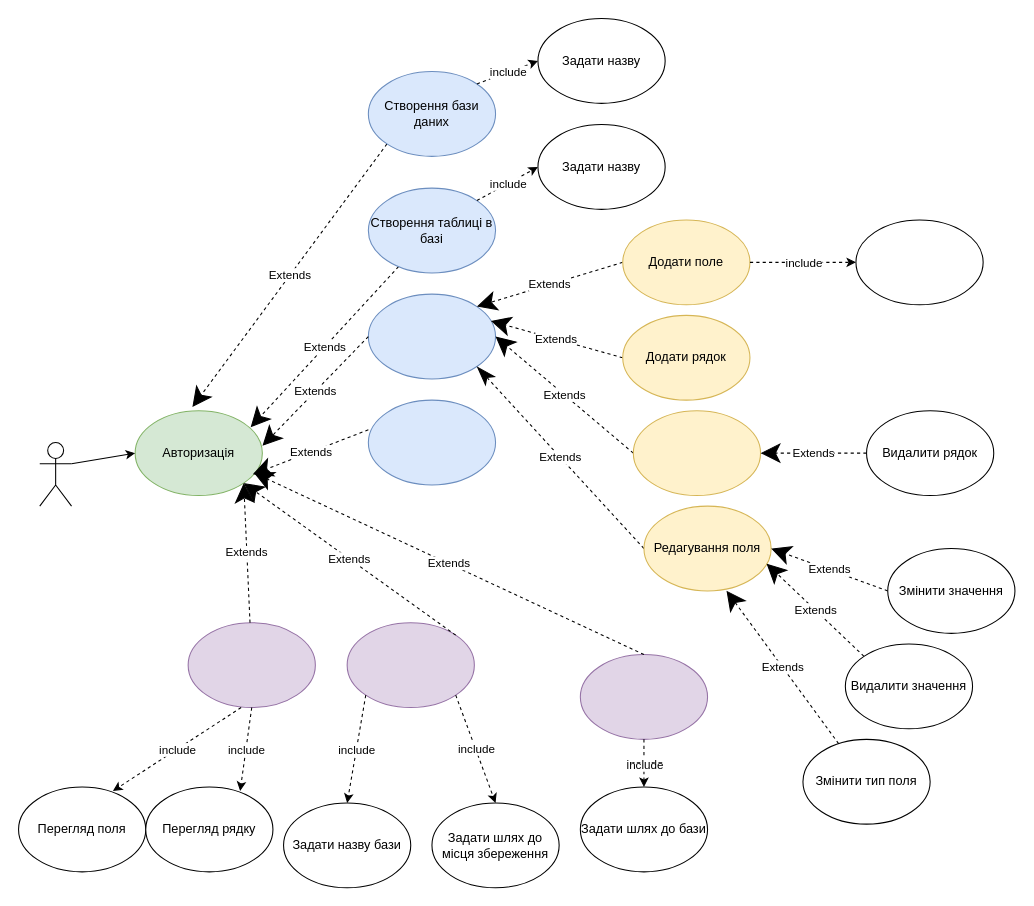
Some shapes in this 1034 by 906 pixel diagram are drawn without their labels. Here are the shapes that lost their labels. From the top down, the centre of each, then its label:
the point at 919,262: Задати тип
the point at 431,336: Редагування таблиці в базі
the point at 431,442: Видалення таблиці з бази
the point at 696,453: Редагувати рядок
the point at 55,473: Actor
the point at 251,665: Перегляд таблиці в базі
the point at 410,665: Збереження бази на диск
the point at 643,696: Зчитування бази з диску
